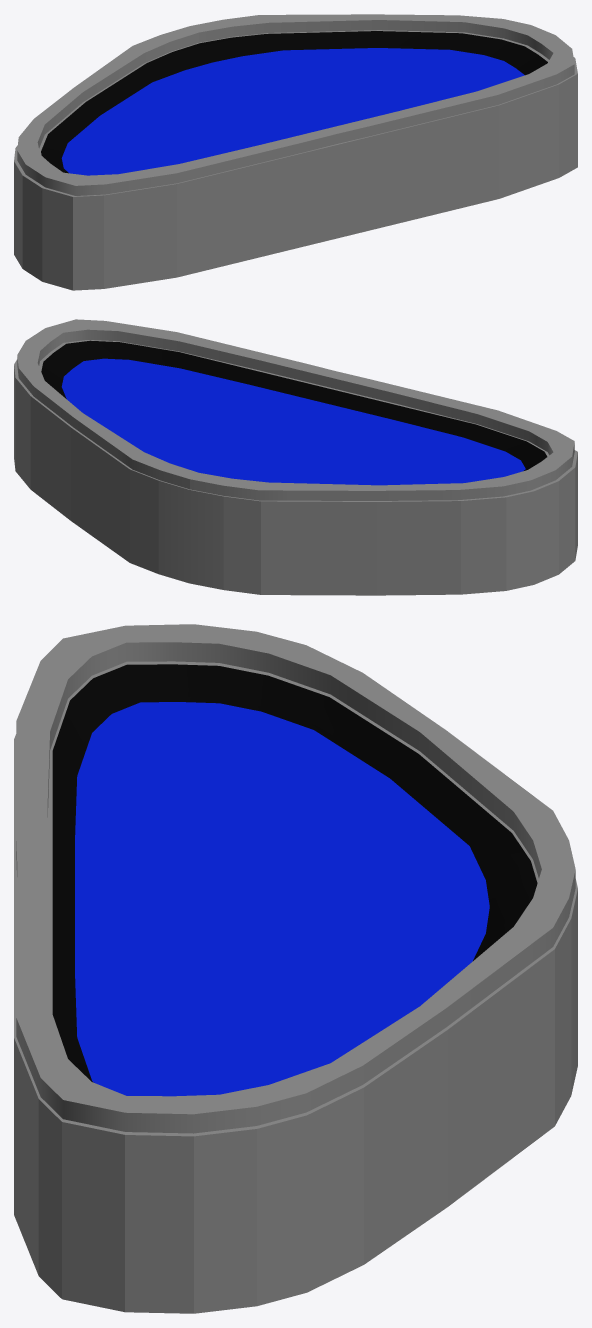
The model's file is PlataformaRebote (1).fbx.
3 renders of one model, top to bottom at view 1: azimuth 30°, elevation 25°; view 2: azimuth 150°, elevation 25°; view 3: azimuth 270°, elevation 25°, orthographic. The views are drawn at different scales.
Parts seen in each view (by area): view 1: Cube, Cube.001, Cube.002; view 2: Cube, Cube.001, Cube.002; view 3: Cube, Cube.001, Cube.002.
Part boxes in pixels (bbox=[...]): Cube: bbox=[14, 20, 577, 290]; Cube.001: bbox=[17, 14, 574, 185]; Cube.002: bbox=[14, 74, 577, 290]; Cube: bbox=[14, 329, 577, 595]; Cube.001: bbox=[17, 319, 574, 490]; Cube.002: bbox=[14, 366, 577, 595]; Cube: bbox=[14, 642, 577, 1313]; Cube.001: bbox=[16, 624, 575, 1114]; Cube.002: bbox=[14, 912, 577, 1313].
Bounding box in the file's own units: 600 × 111 × 288.
